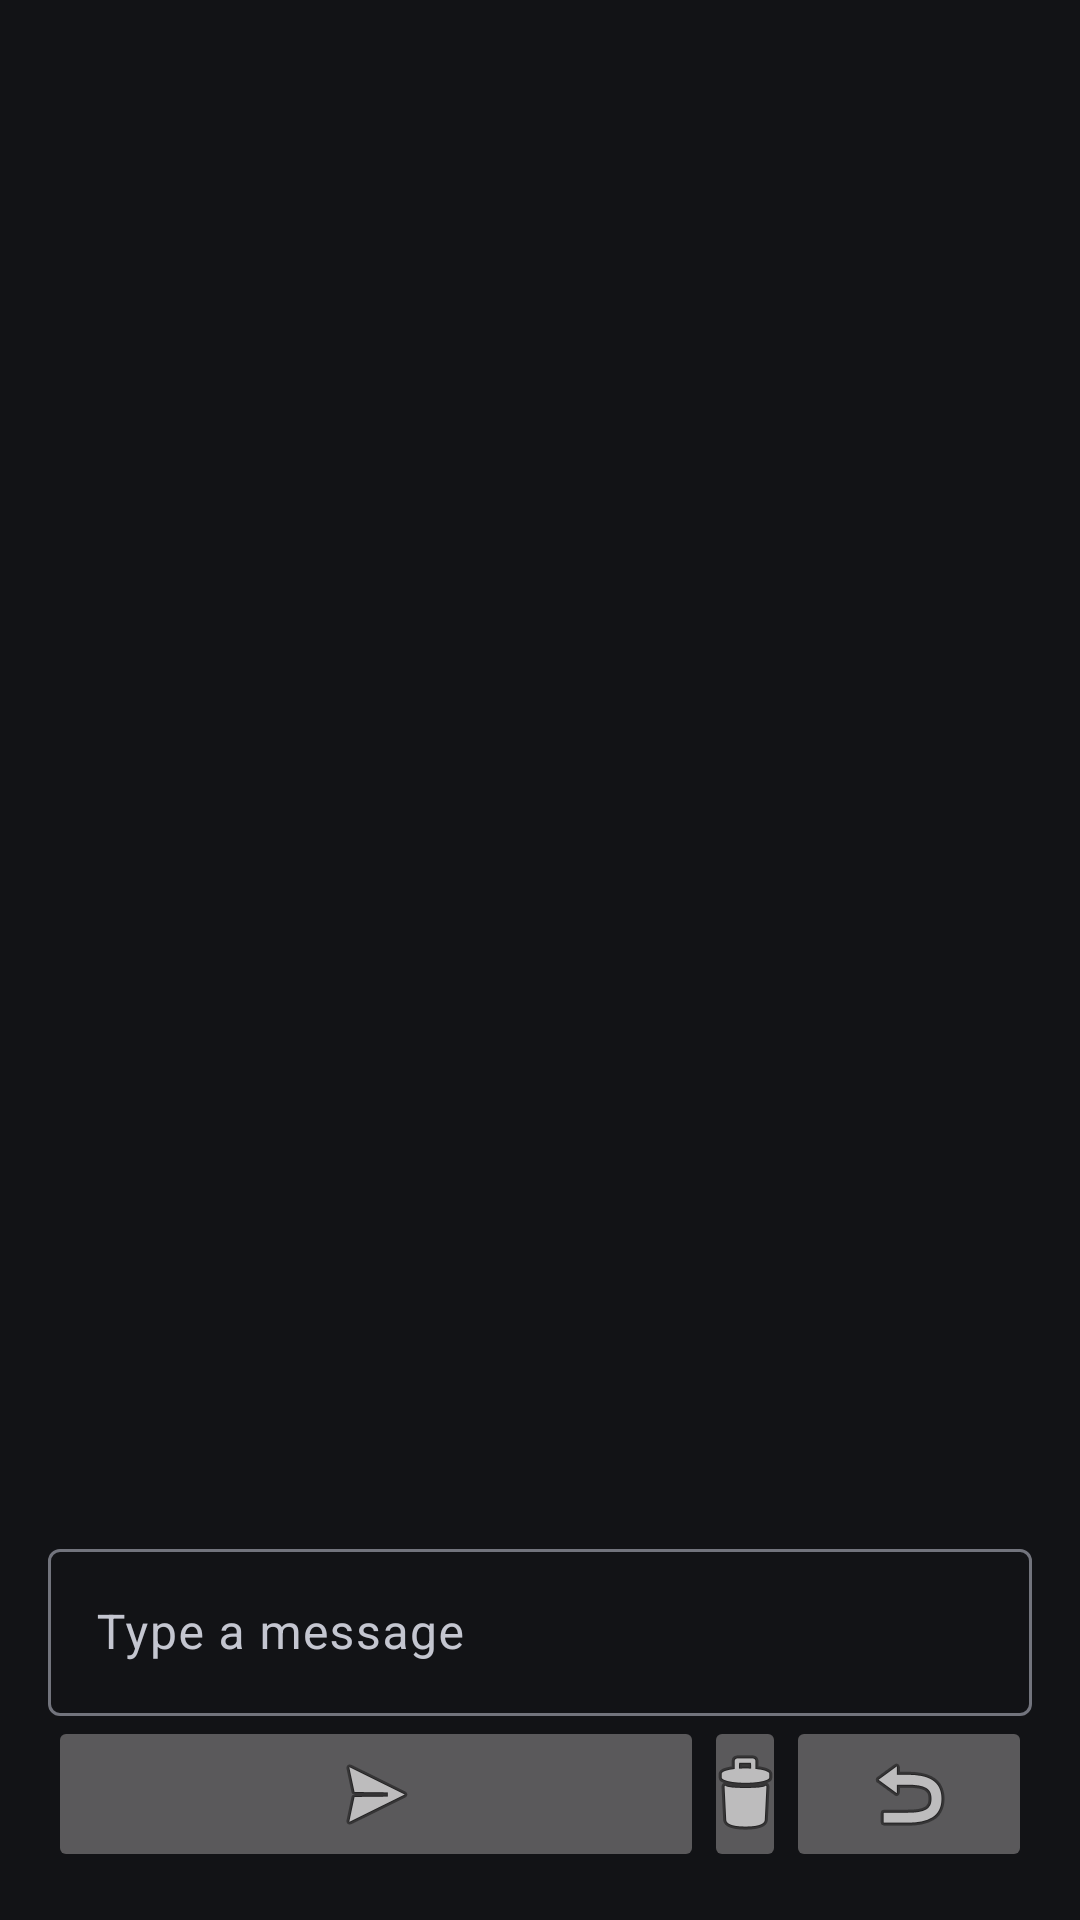

Icons on this 1080x1920 Android screen, each with its box as (x1,y1,x2,y2):
delete: (716,1734,774,1854)
revert: (798,1734,1020,1854)
